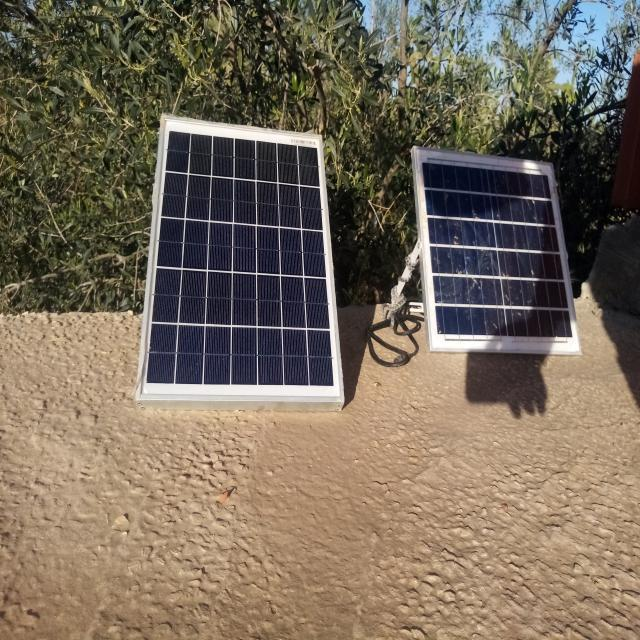faulty: (414, 149, 583, 354)
no faulty: (136, 116, 344, 402)
